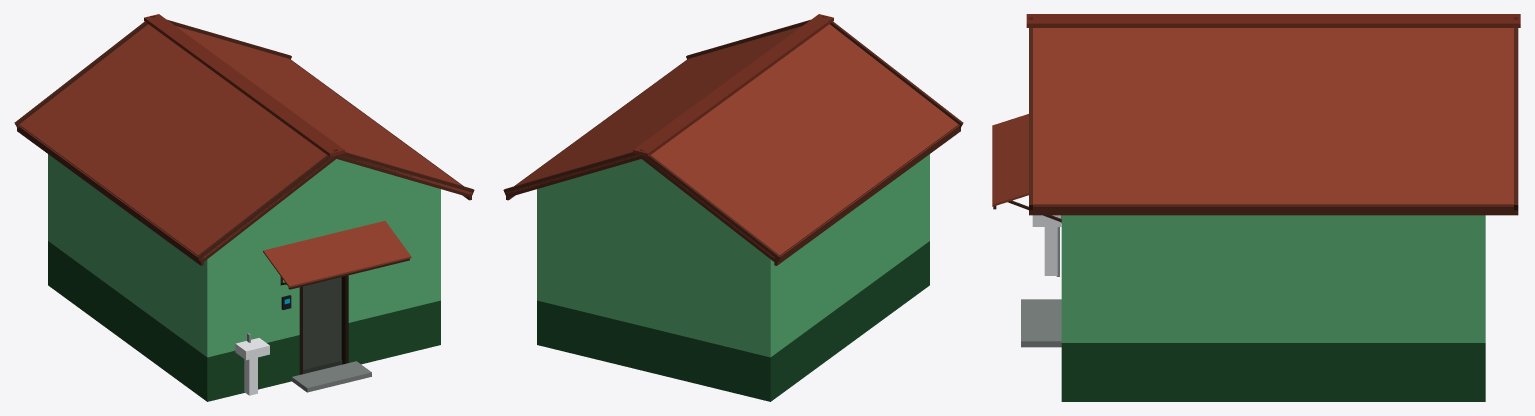
File: rares_guard_house.glb
The picture shows the model from 3 angles, left to right: view 1: azimuth 30°, elevation 25°; view 2: azimuth 150°, elevation 25°; view 3: azimuth 270°, elevation 25°; orthographic projection. The views are drawn at different scales.
Visible parts, largest first — view 1: RGH_RoofLeft, RGH_UpperLeft, RGH_UpperFrontLeft, RGH_RoofRight, RGH_UpperFrontRight, RGH_BaseLeft, RGH_GableFront, RGH_Awning, RGH_BaseFrontRight, RGH_BaseFrontLeft, RGH_RidgeCap, RGH_InteriorFloor (+11 smaller); view 2: RGH_RoofLeft, RGH_UpperRear, RGH_UpperLeft, RGH_BaseRear, RGH_RoofRight, RGH_BaseLeft, RGH_GableRear, RGH_RidgeCap, RGH_FasciaSideLeft, RGH_FasciaRearLeft, RGH_FasciaRearRight, RGH_FasciaFrontLeft (+2 smaller); view 3: RGH_RoofRight, RGH_UpperRight, RGH_BaseRight, RGH_RidgeCap, RGH_FasciaSideRight, RGH_Awning, RGH_UpperFrontRight, RGH_EntranceStoop, RGH_UpperRear, RGH_BaseFrontRight, RGH_FasciaRearRight, RGH_BaseRear (+2 smaller).
Boxes of the visible parts, bbox=[...] form: RGH_RoofLeft: bbox=[18, 24, 333, 258]; RGH_UpperLeft: bbox=[53, 158, 207, 353]; RGH_UpperFrontLeft: bbox=[202, 224, 299, 357]; RGH_RoofRight: bbox=[176, 26, 471, 194]; RGH_UpperFrontRight: bbox=[348, 189, 440, 322]; RGH_BaseLeft: bbox=[53, 245, 204, 397]; RGH_GableFront: bbox=[232, 159, 440, 240]; RGH_Awning: bbox=[263, 221, 411, 287]; RGH_BaseFrontRight: bbox=[348, 300, 440, 364]; RGH_BaseFrontLeft: bbox=[202, 335, 299, 401]; RGH_RidgeCap: bbox=[144, 14, 344, 156]; RGH_InteriorFloor: bbox=[303, 277, 342, 373]; RGH_RoofLeft: bbox=[643, 24, 959, 260]; RGH_UpperRear: bbox=[537, 189, 775, 357]; RGH_UpperLeft: bbox=[761, 158, 924, 356]; RGH_BaseRear: bbox=[537, 300, 775, 401]; RGH_RoofRight: bbox=[506, 26, 801, 193]; RGH_BaseLeft: bbox=[761, 245, 924, 401]; RGH_GableRear: bbox=[537, 159, 745, 240]; RGH_RidgeCap: bbox=[633, 14, 833, 156]; RGH_FasciaSideLeft: bbox=[774, 124, 960, 265]; RGH_FasciaRearLeft: bbox=[639, 149, 780, 261]; RGH_FasciaRearRight: bbox=[503, 149, 642, 197]; RGH_FasciaFrontLeft: bbox=[824, 16, 963, 128]; RGH_RoofRight: bbox=[1033, 28, 1513, 207]; RGH_UpperRight: bbox=[1062, 215, 1485, 342]; RGH_BaseRight: bbox=[1062, 343, 1485, 401]; RGH_RidgeCap: bbox=[1026, 14, 1520, 27]; RGH_FasciaSideRight: bbox=[1029, 204, 1518, 215]; RGH_Awning: bbox=[992, 114, 1028, 206]; RGH_UpperFrontRight: bbox=[1061, 215, 1076, 342]; RGH_EntranceStoop: bbox=[1021, 299, 1061, 347]; RGH_UpperRear: bbox=[1471, 215, 1485, 342]; RGH_BaseFrontRight: bbox=[1061, 343, 1076, 401]; RGH_FasciaRearRight: bbox=[1514, 18, 1518, 210]; RGH_BaseRear: bbox=[1471, 343, 1485, 401].
Size of the model in its own units: 5.2 by 4.17 by 6.48.
